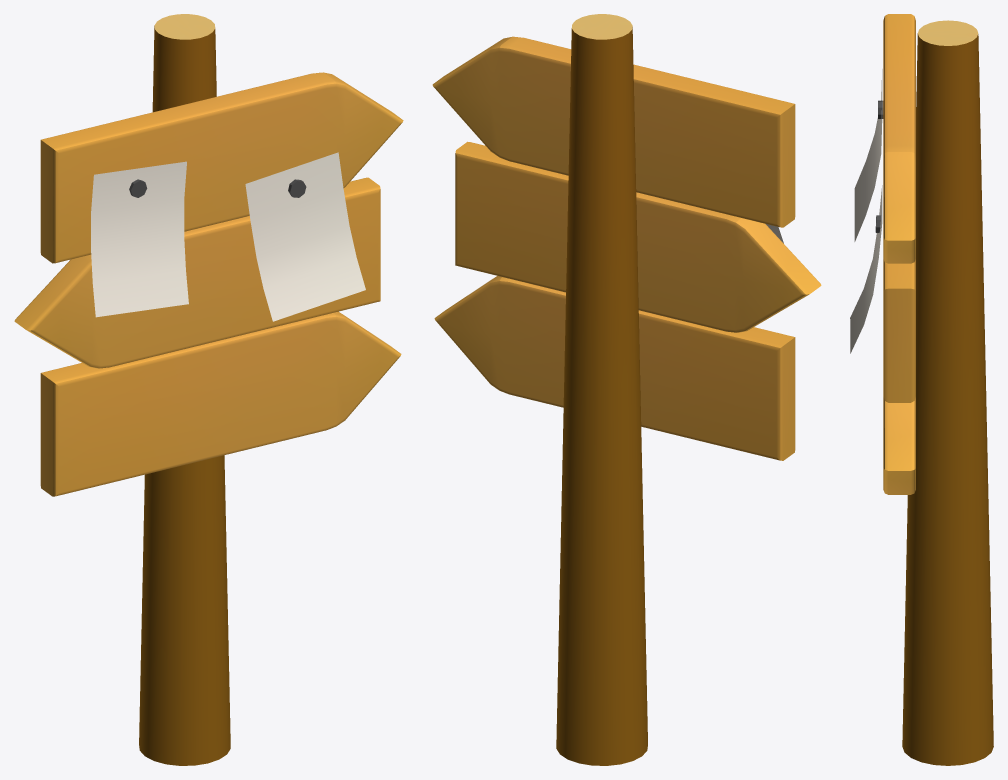
File: Signpost2.fbx
The picture shows the model from 3 angles, left to right: view 1: azimuth 30°, elevation 25°; view 2: azimuth 150°, elevation 25°; view 3: azimuth 270°, elevation 25°; orthographic projection.
Visible parts, largest first — view 1: Df_sgn; view 2: Df_sgn; view 3: Df_sgn.
Boxes of the visible parts, x1,y1,x2,y2 form: Df_sgn: [14, 14, 403, 765]; Df_sgn: [432, 14, 821, 765]; Df_sgn: [850, 14, 993, 765].
Bounding box in the file's own units: 124 × 225 × 41.06.
